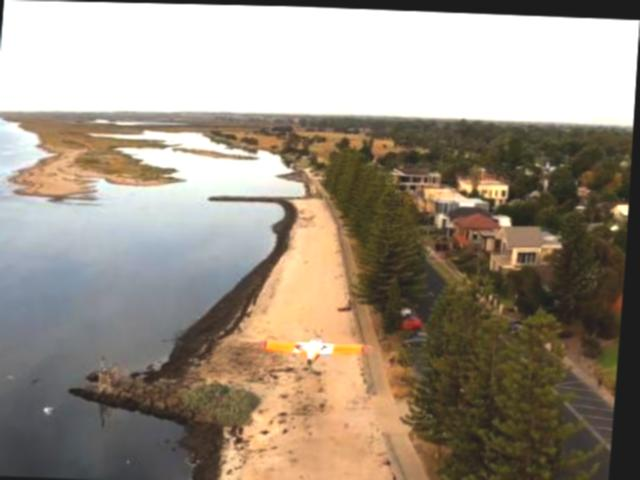uav: (261, 327, 371, 365)
